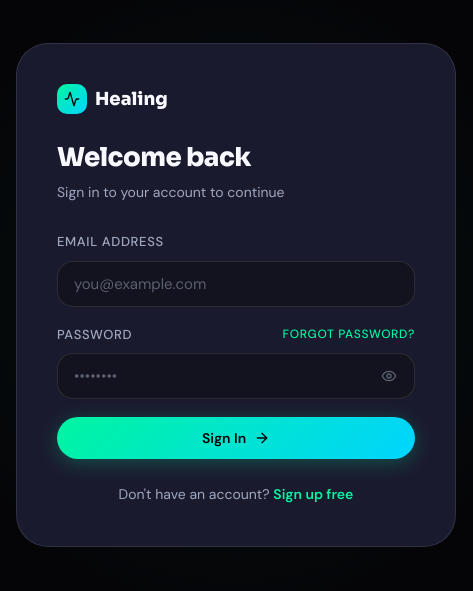
Test case: LoginPage › shows validation errors for empty submit
Click the button "Sign In".
click(236, 438)  # box [57, 417, 415, 459]
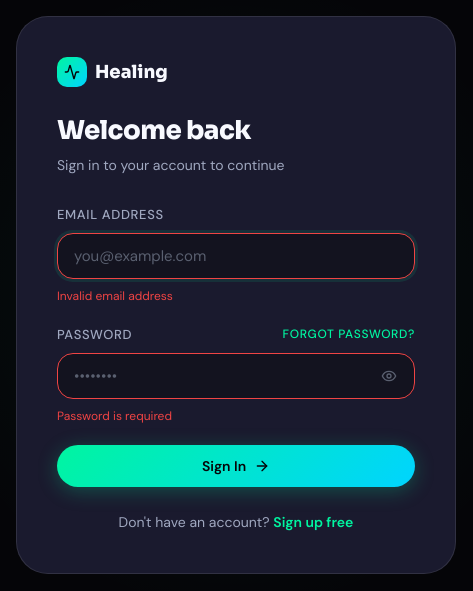
Check: the text "Invalid email address" is shown, box [57, 288, 173, 304]
